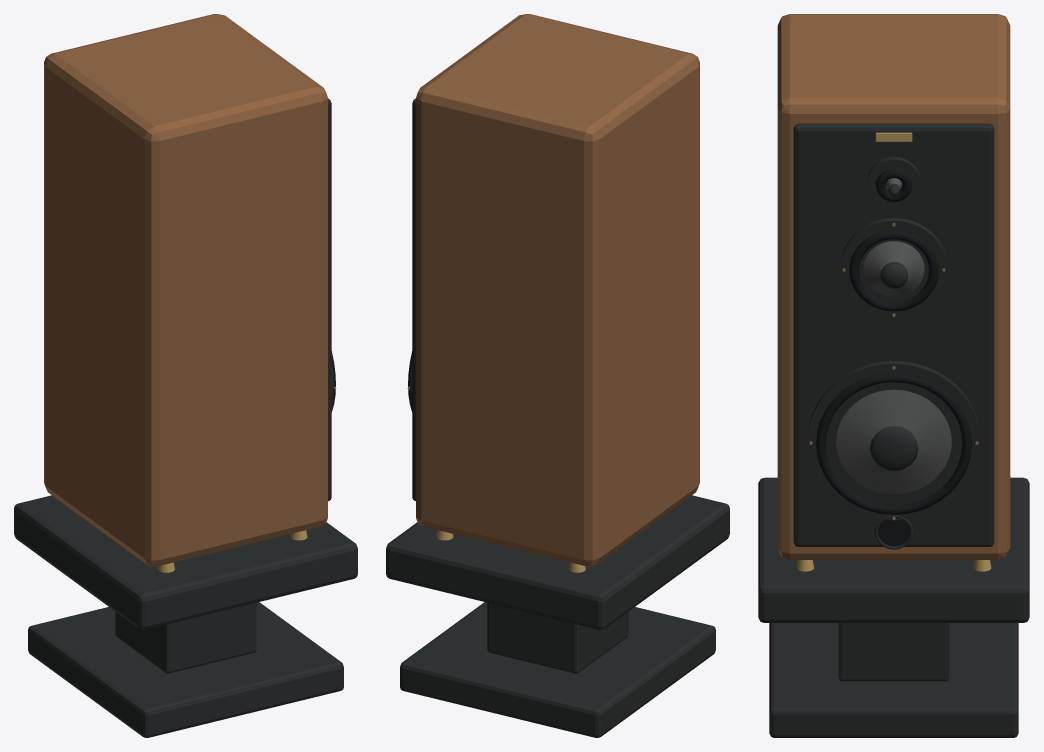
File: speaker-right.glb
The picture shows the model from 3 angles, left to right: view 1: azimuth 30°, elevation 25°; view 2: azimuth 150°, elevation 25°; view 3: azimuth 270°, elevation 25°; orthographic projection. The views are drawn at different scales.
Parts seen in each view (by area): view 1: part::speaker-right/chamfered-walnut-enclosure-001, part::speaker-right/weighted-stand-base-001, part::speaker-right/decoupled-plinth-001, part::speaker-right/short-pedestal-001, part::speaker-right/graphite-inset-baffle-001; view 2: part::speaker-right/chamfered-walnut-enclosure-001, part::speaker-right/weighted-stand-base-001, part::speaker-right/decoupled-plinth-001, part::speaker-right/short-pedestal-001, part::speaker-right/graphite-inset-baffle-001; view 3: part::speaker-right/graphite-inset-baffle-001, part::speaker-right/chamfered-walnut-enclosure-001, part::speaker-right/weighted-stand-base-001, part::speaker-right/decoupled-plinth-001, part::speaker-right/recessed-driver-basket-001, part::speaker-right/dished-paper-diaphragm-001, part::speaker-right/short-pedestal-001, part::speaker-right/rolled-elastomer-surround-001, part::speaker-right/recessed-driver-basket-002, part::speaker-right/rolled-elastomer-surround-002, part::speaker-right/dished-paper-diaphragm-002, part::speaker-right/domed-driver-cap-001 (+4 smaller).
Boxes of the visible parts, x1,y1,x2,y2 form: part::speaker-right/chamfered-walnut-enclosure-001: (44,14,327,566); part::speaker-right/weighted-stand-base-001: (28,602,343,737); part::speaker-right/decoupled-plinth-001: (14,495,357,629); part::speaker-right/short-pedestal-001: (115,602,256,673); part::speaker-right/graphite-inset-baffle-001: (328,98,331,500); part::speaker-right/chamfered-walnut-enclosure-001: (416,14,699,566); part::speaker-right/weighted-stand-base-001: (400,602,715,737); part::speaker-right/decoupled-plinth-001: (386,495,729,629); part::speaker-right/short-pedestal-001: (487,602,628,673); part::speaker-right/graphite-inset-baffle-001: (412,98,415,500); part::speaker-right/graphite-inset-baffle-001: (793,123,994,546); part::speaker-right/chamfered-walnut-enclosure-001: (777,14,1010,559); part::speaker-right/weighted-stand-base-001: (769,623,1018,737); part::speaker-right/decoupled-plinth-001: (758,477,1029,622); part::speaker-right/recessed-driver-basket-001: (807,361,980,520); part::speaker-right/dished-paper-diaphragm-001: (836,389,951,494); part::speaker-right/short-pedestal-001: (838,623,949,681); part::speaker-right/rolled-elastomer-surround-001: (816,373,971,514); part::speaker-right/recessed-driver-basket-002: (841,218,946,316); part::speaker-right/rolled-elastomer-surround-002: (849,230,938,311); part::speaker-right/dished-paper-diaphragm-002: (863,241,924,296); part::speaker-right/domed-driver-cap-001: (869,427,918,470).
Size of the model in its own units: 0.519 by 1.26 by 0.49.
